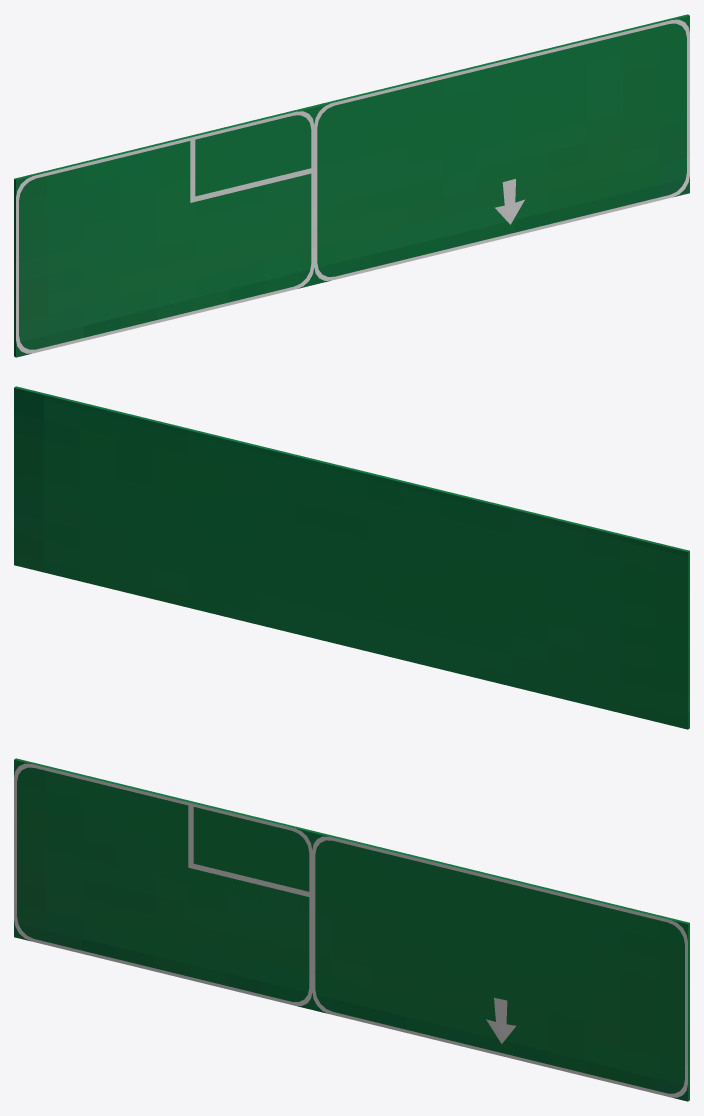
The model's file is Highway_Segment_Sign_Billboard01.fbx.
The picture shows the model from 3 angles, top to bottom: view 1: azimuth 30°, elevation 25°; view 2: azimuth 150°, elevation 25°; view 3: azimuth 330°, elevation 25°; orthographic projection.
Parts seen in each view (by area): view 1: SM_City_Highway_Sign_Billboard_01b.mo; view 2: SM_City_Highway_Sign_Billboard_01b.mo; view 3: SM_City_Highway_Sign_Billboard_01b.mo.
Boxes of the visible parts, x1,y1,x2,y2 form: SM_City_Highway_Sign_Billboard_01b.mo: [14, 14, 689, 357]; SM_City_Highway_Sign_Billboard_01b.mo: [14, 386, 689, 729]; SM_City_Highway_Sign_Billboard_01b.mo: [14, 758, 689, 1101].
Size of the model in its own units: 688 by 173 by 9.46.
